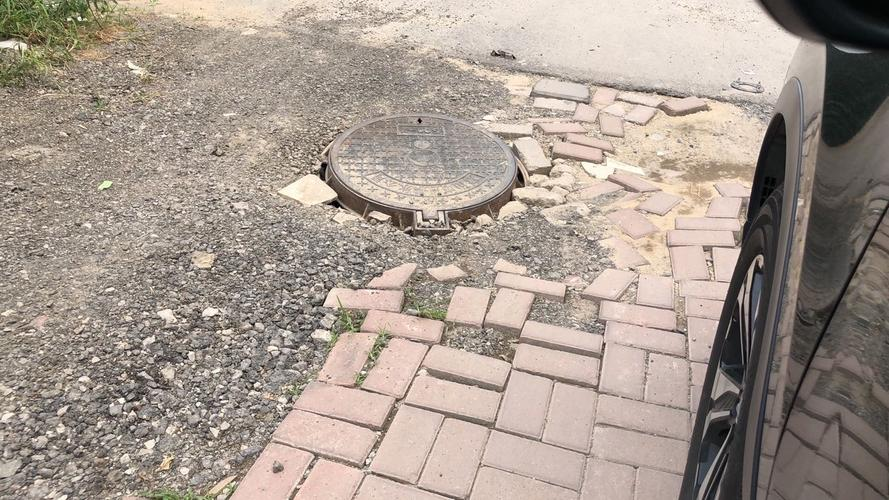circle: (261, 77, 597, 277)
